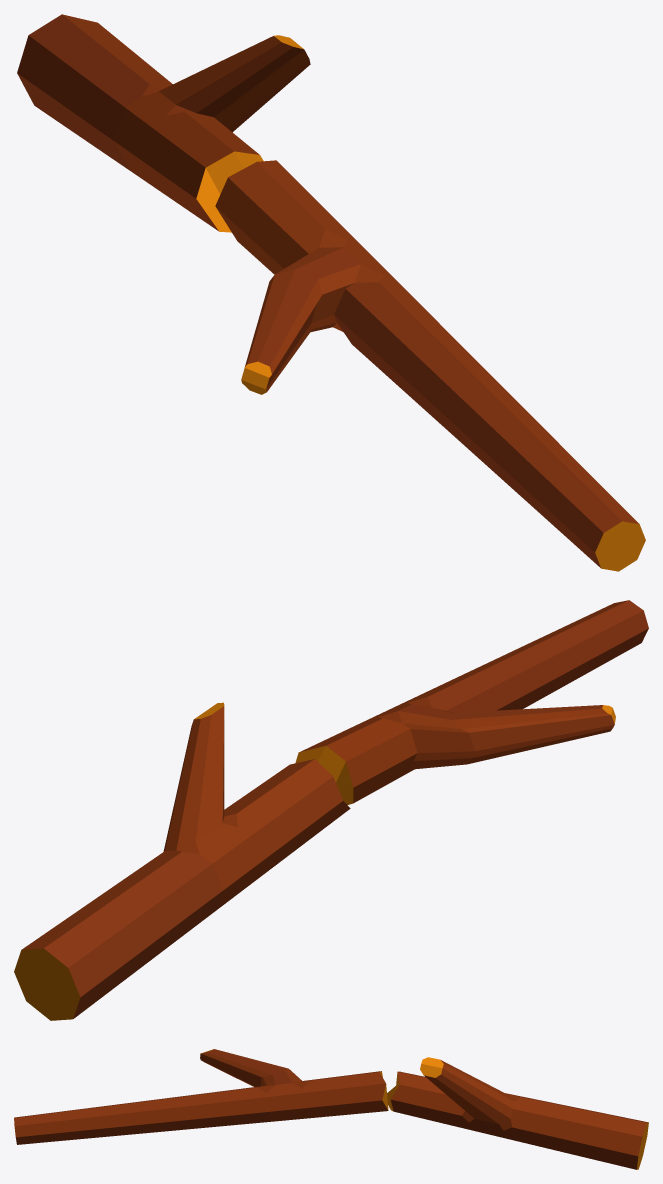
Rendered from Stick_4.fbx.
3 views of the same model, one above another, from view 1: azimuth 30°, elevation 25°; view 2: azimuth 150°, elevation 25°; view 3: azimuth 270°, elevation 25° (orthographic). The views are drawn at different scales.
Visible parts, largest first — view 1: Circle.035, Circle.033; view 2: Circle.033, Circle.035; view 3: Circle.035, Circle.033.
Part boxes in pixels (left/top/right/bottom): Circle.035: left=215, top=160, right=645, bottom=571; Circle.033: left=17, top=14, right=310, bottom=232; Circle.033: left=14, top=702, right=350, bottom=1020; Circle.035: left=295, top=600, right=648, bottom=805; Circle.035: left=14, top=1049, right=388, bottom=1144; Circle.033: left=387, top=1057, right=648, bottom=1169.
Size of the model in its own units: 11.25 by 8.1 by 41.39.
